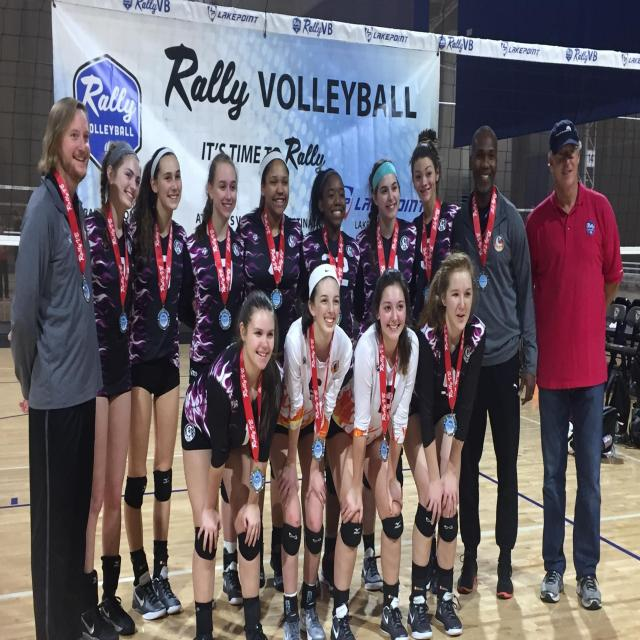body: (8, 91, 102, 640), (522, 114, 624, 608), (447, 121, 540, 602), (178, 286, 286, 640), (120, 142, 196, 627), (400, 248, 489, 640), (329, 265, 421, 640), (266, 258, 354, 640), (181, 148, 249, 618), (79, 139, 142, 639), (235, 148, 305, 594), (352, 154, 421, 596), (299, 167, 367, 606), (406, 128, 466, 336)
